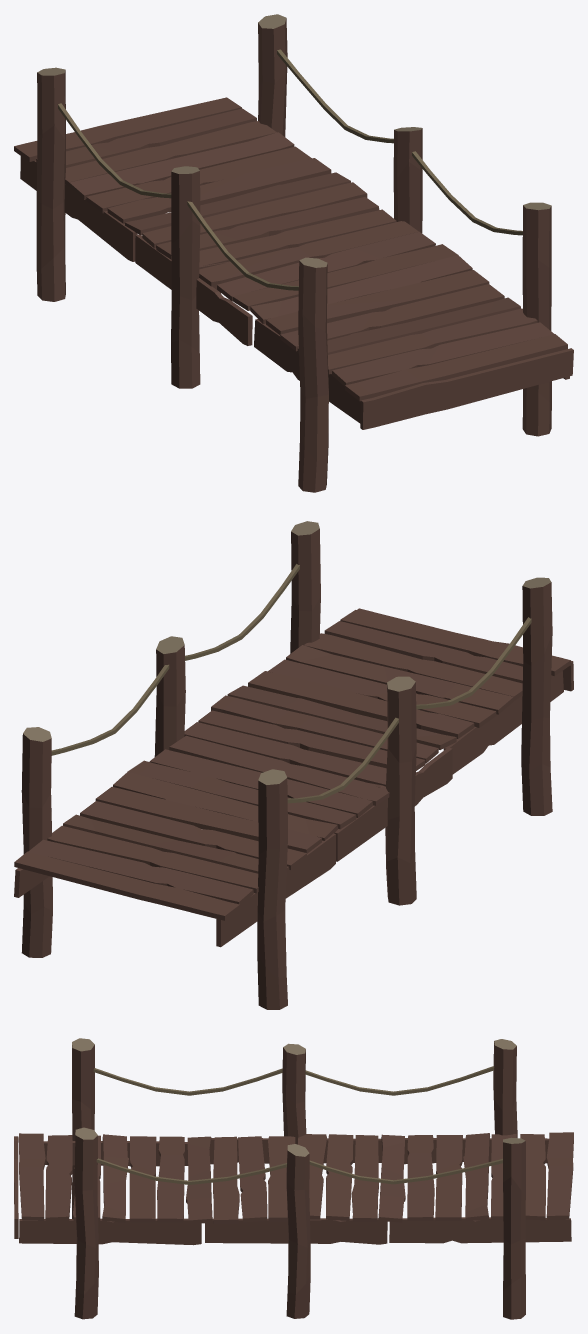
File: dock_long.glb
The picture shows the model from 3 angles, top to bottom: view 1: azimuth 30°, elevation 25°; view 2: azimuth 150°, elevation 25°; view 3: azimuth 270°, elevation 25°; orthographic projection. The views are drawn at different scales.
Parts seen in each view (by area): view 1: dock_long; view 2: dock_long; view 3: dock_long.
Boxes of the visible parts, x1=… form: dock_long: x1=14, y1=14, x2=573, y2=492; dock_long: x1=14, y1=521, x2=573, y2=1009; dock_long: x1=14, y1=1038, x2=573, y2=1319.
Bounding box in the file's own units: 2.55 × 2.16 × 6.
